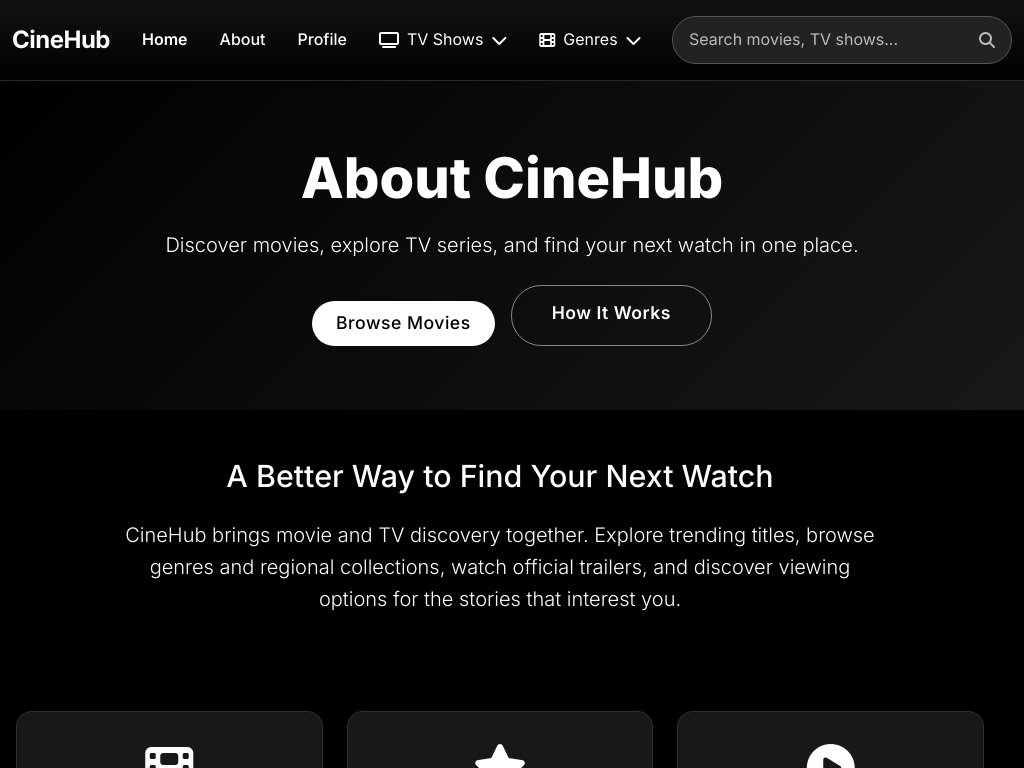
Test: existing About and Home navigation works with the patched router
This screenshot has width=1024, height=768.
Expected: the heading "About CineHub" is shown, [301, 144, 723, 212]
Click the link "Browse Movies".
click(403, 323)  # box [312, 301, 495, 346]
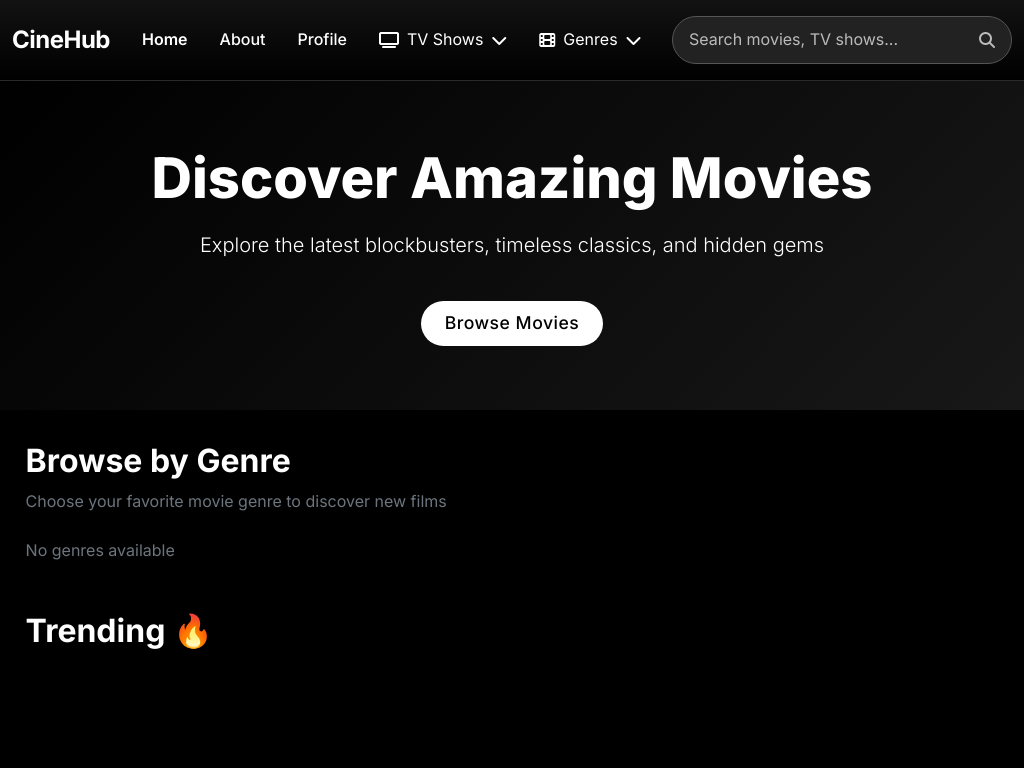
Expected: the heading "Discover Amazing Movies" is shown, [152, 144, 872, 212]
Click the link "About".
click(242, 39)  # box [220, 29, 266, 49]
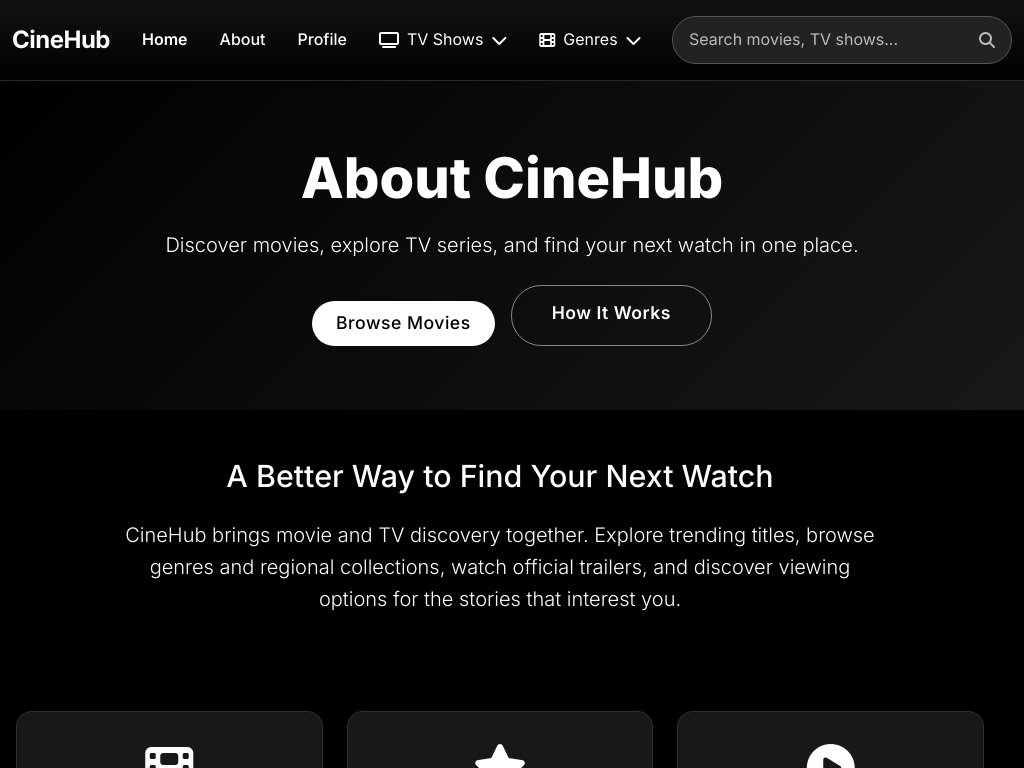
Expected: the heading "About CineHub" is shown, [301, 144, 723, 212]
